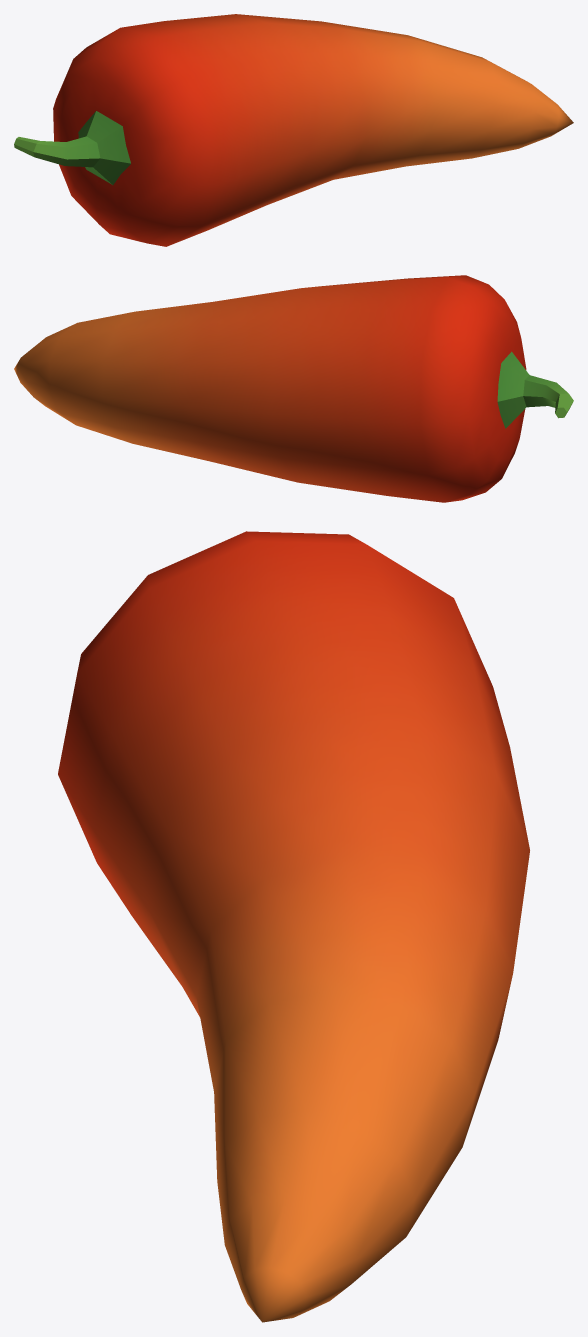
The model's file is Chili.fbx.
3 renders of one model, top to bottom at view 1: azimuth 30°, elevation 25°; view 2: azimuth 150°, elevation 25°; view 3: azimuth 270°, elevation 25°, orthographic. The views are drawn at different scales.
Visible parts, largest first — view 1: Chili; view 2: Chili; view 3: Chili.
Boxes of the visible parts, x1,y1,x2,y2 form: Chili: (14, 14, 573, 246); Chili: (14, 275, 573, 502); Chili: (58, 531, 529, 1322).
Bounding box in the file's own units: 5.32 × 1.93 × 1.99.
